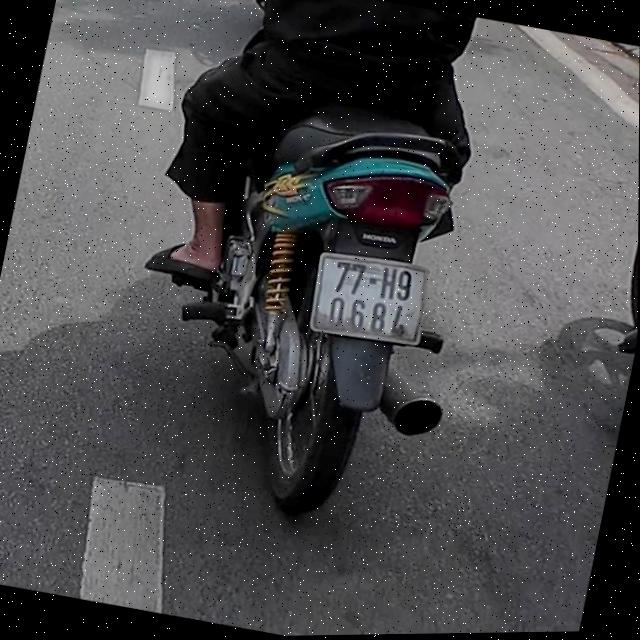motorcycle: (177, 81, 510, 547)
plate: (299, 240, 440, 357)
